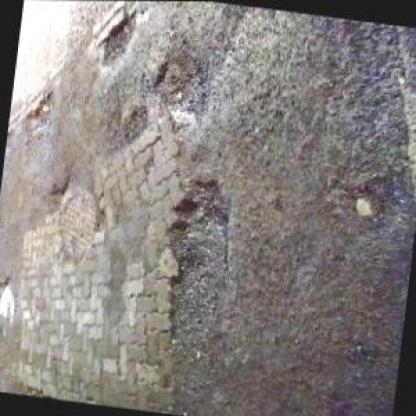pothole: (148, 172, 242, 358), (146, 46, 215, 133), (16, 84, 60, 142), (97, 5, 137, 68), (118, 102, 150, 146), (0, 274, 22, 322)
